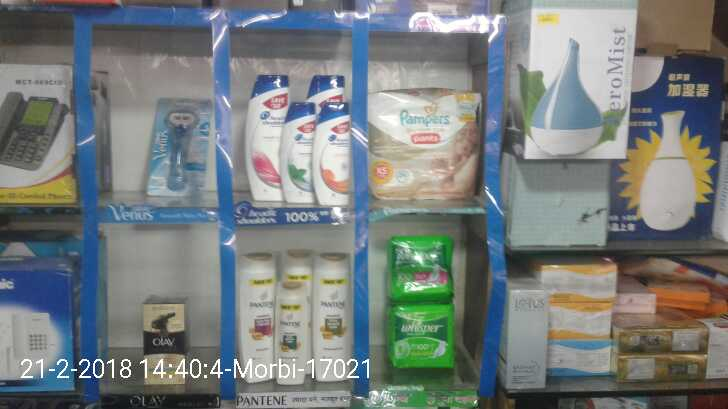venus: (150, 96, 210, 194)
